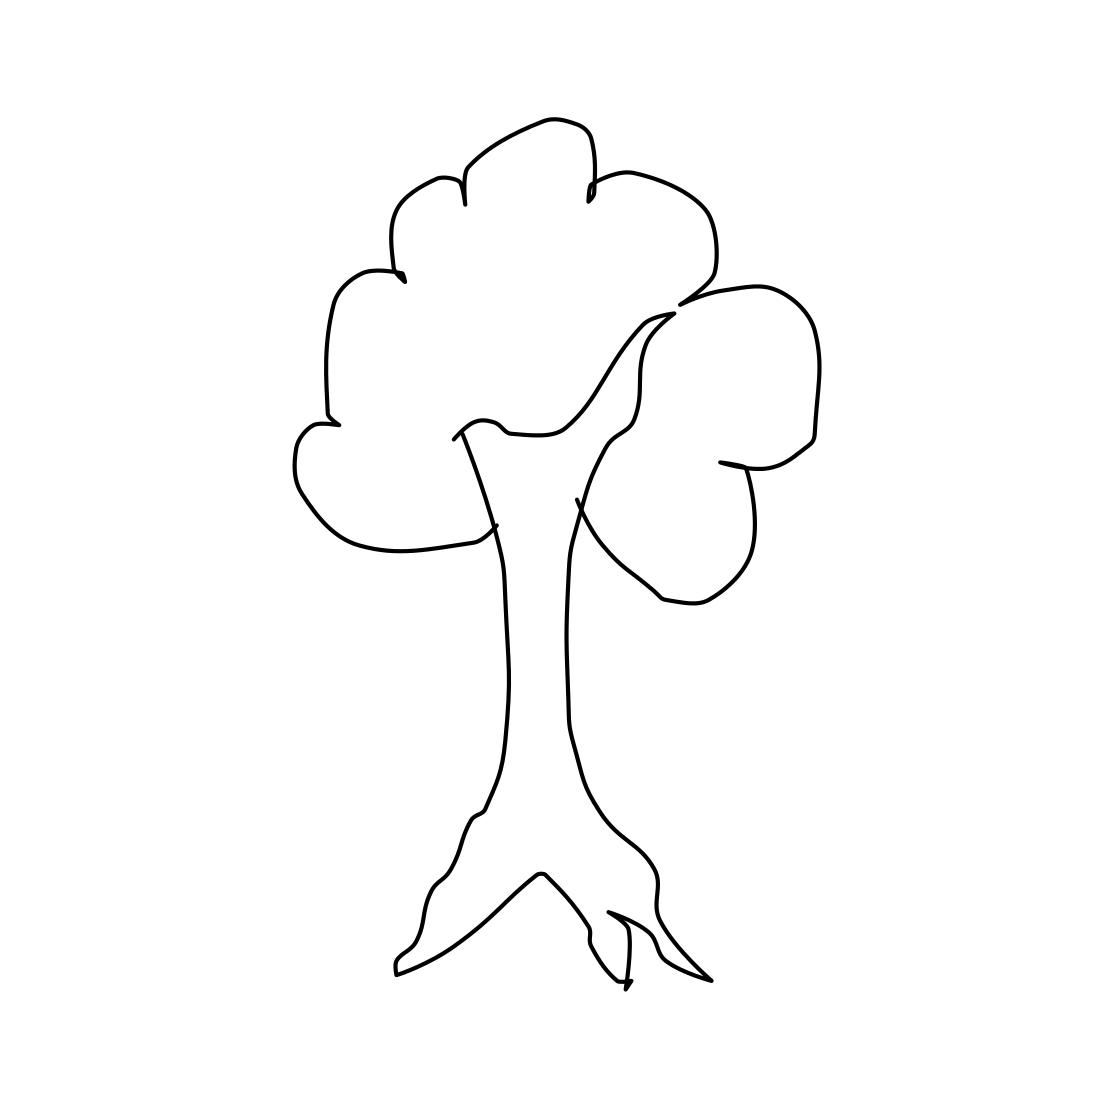Tree: (259, 95, 841, 1002)
